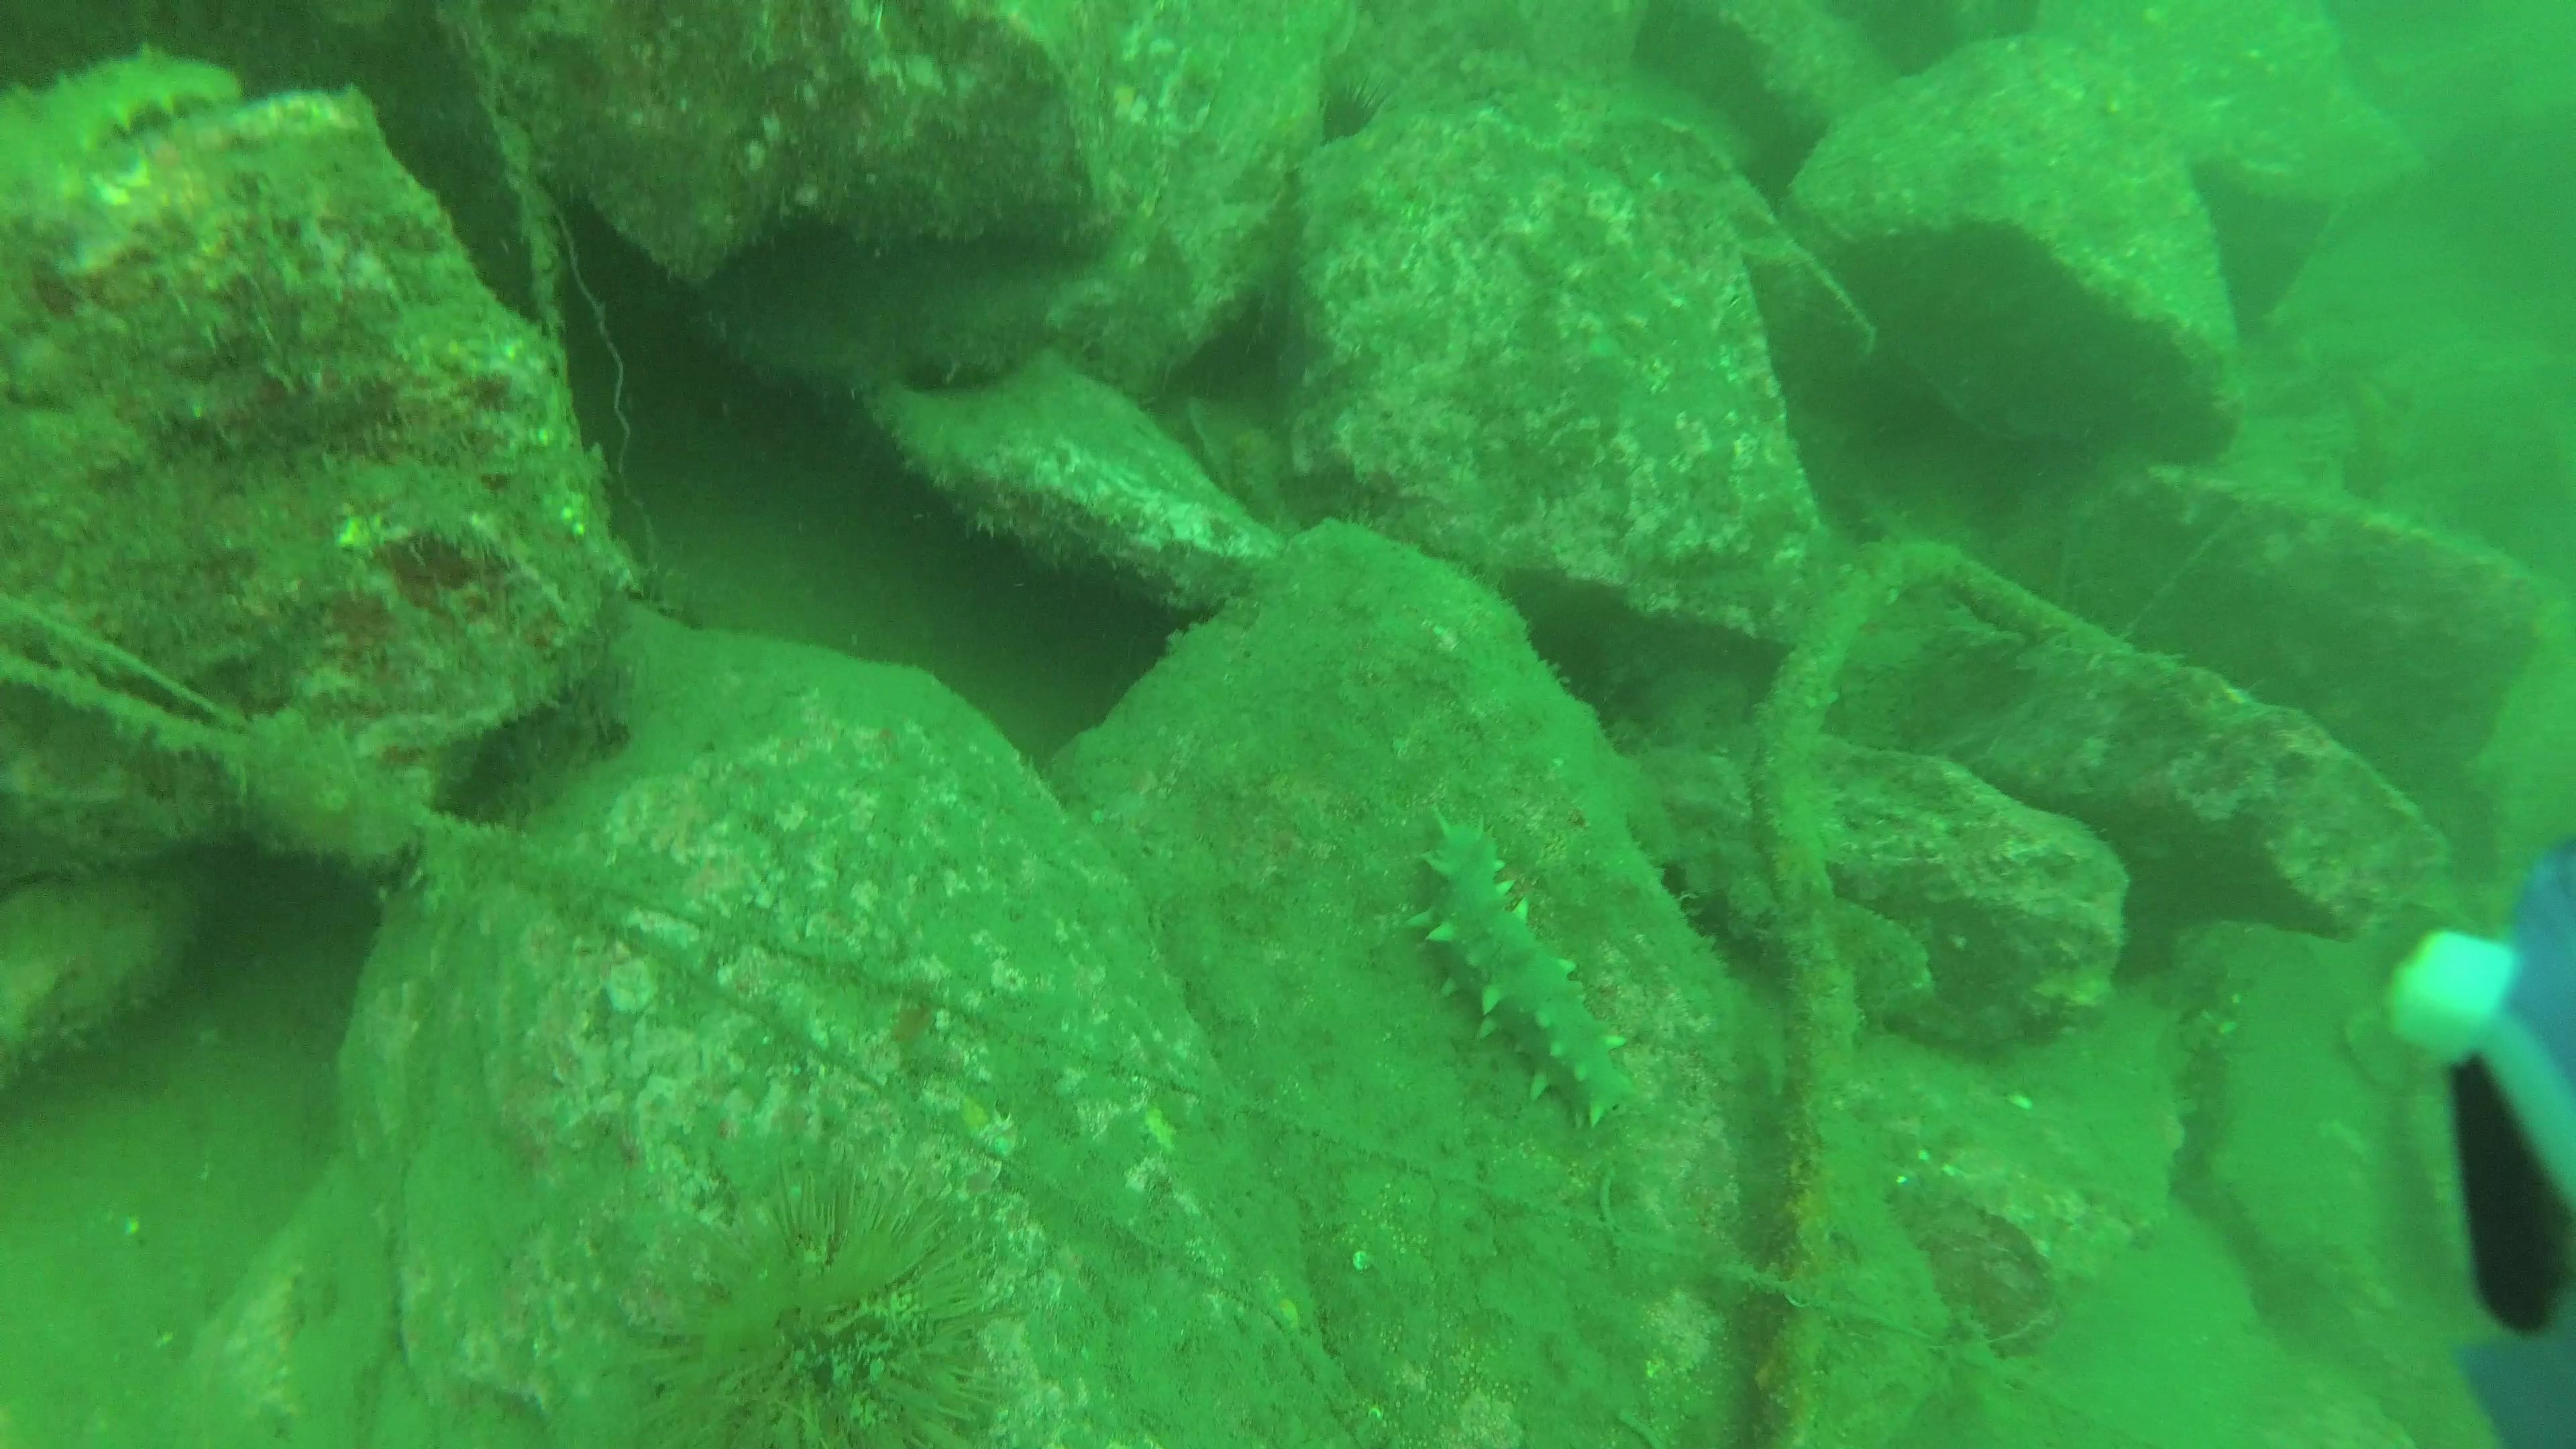echinus: (623, 1152, 1010, 1449)
holothurian: (1410, 801, 1649, 1141)
